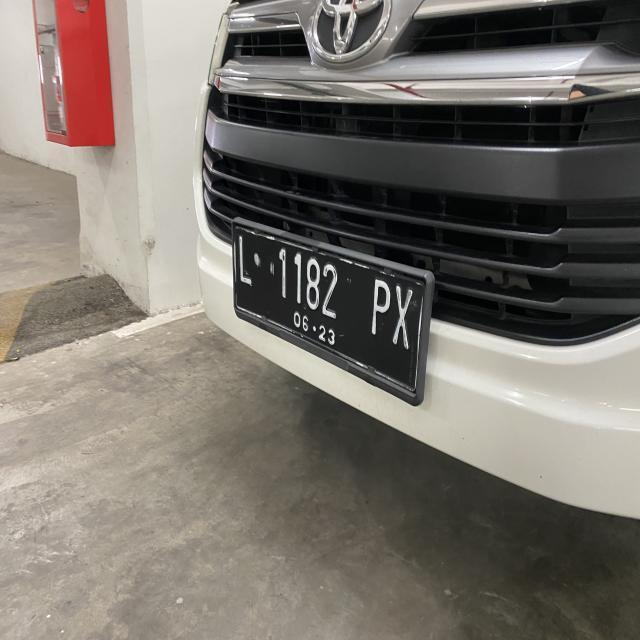1: (274, 243, 289, 304), (292, 250, 306, 312)
2: (322, 262, 339, 320)
8: (305, 254, 320, 314)
L: (236, 235, 258, 292)
P: (372, 276, 390, 336)
X: (392, 282, 412, 352)
